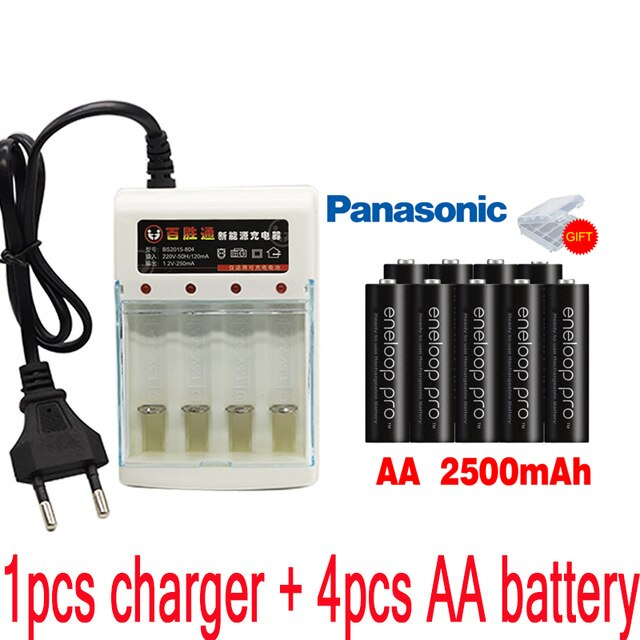Battery: (546, 276, 594, 446), (497, 275, 545, 445), (453, 275, 501, 445), (405, 274, 453, 444), (361, 275, 409, 445)
